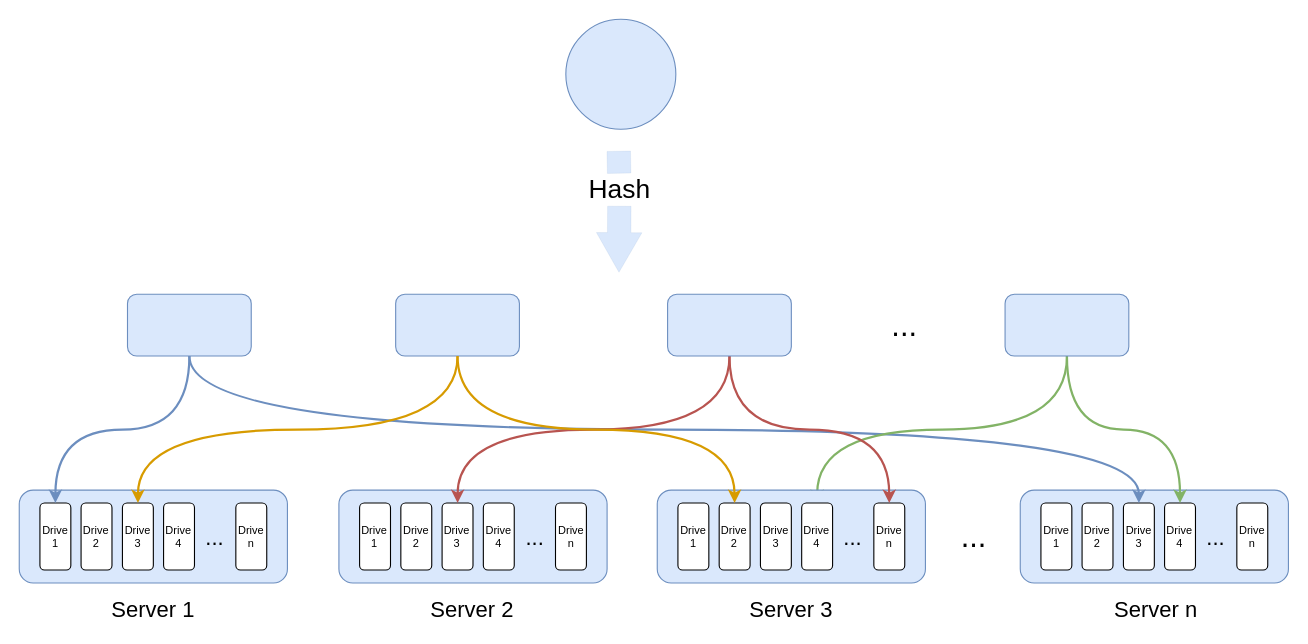
Some shapes in this 1308 by 644 pixel diagram are drawn without their labels. Each missing label, with the centre of its shape:
Object: point 620,73
Set 1: point 188,324
Set 2: point 457,324
Set 3: point 728,324
Set n: point 1066,324
